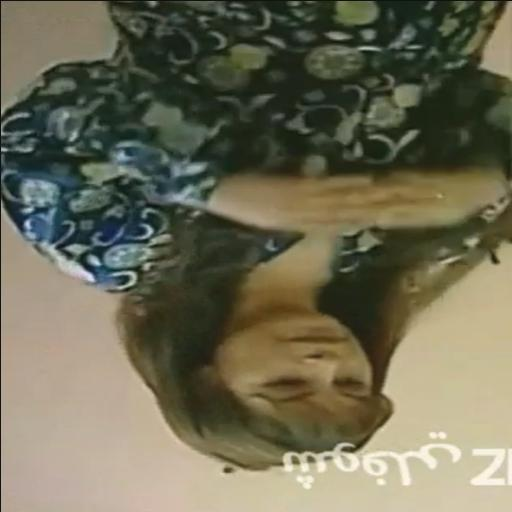zeineb: (149, 301, 391, 433)
